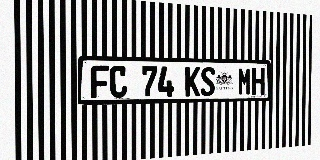4: (158, 66, 174, 97)
7: (141, 66, 157, 97)
C: (110, 66, 127, 98)
F: (91, 65, 109, 98)
H: (252, 68, 265, 95)
K: (185, 67, 200, 96)
M: (238, 67, 251, 95)
S: (200, 67, 215, 96)
